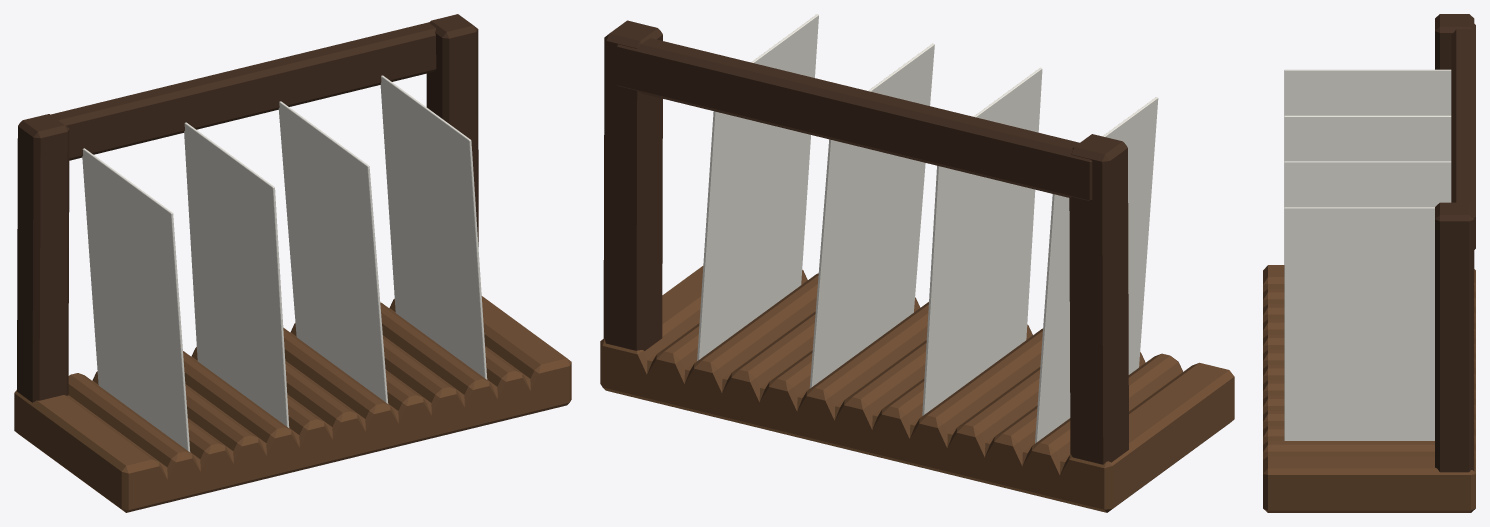
Rendered from plate_rack.glb.
The picture shows the model from 3 angles, left to right: view 1: azimuth 30°, elevation 25°; view 2: azimuth 150°, elevation 25°; view 3: azimuth 270°, elevation 25°; orthographic projection. The views are drawn at different scales.
Parts seen in each view (by area): view 1: plate_rack; view 2: plate_rack; view 3: plate_rack.
Boxes of the visible parts, x1=… form: plate_rack: x1=14, y1=14, x2=571, y2=512; plate_rack: x1=600, y1=14, x2=1234, y2=512; plate_rack: x1=1263, y1=14, x2=1475, y2=512.
Size of the model in its own units: 0.6 by 0.4001 by 0.26.
